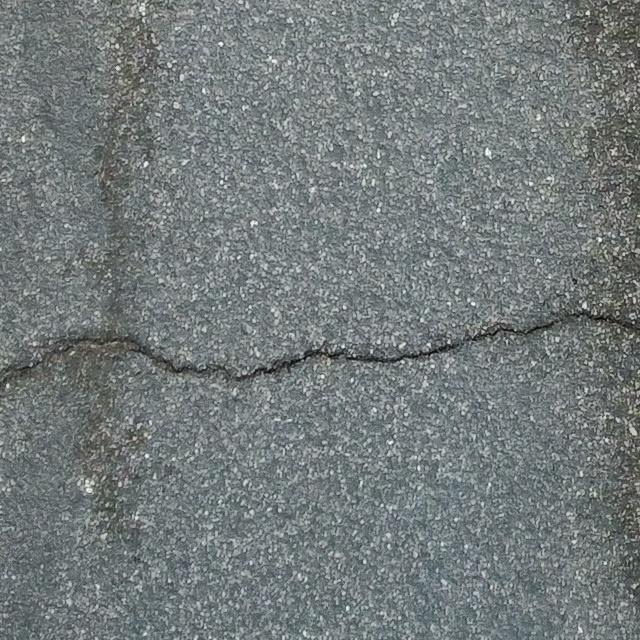TransverseCrack: (2, 307, 636, 385)
